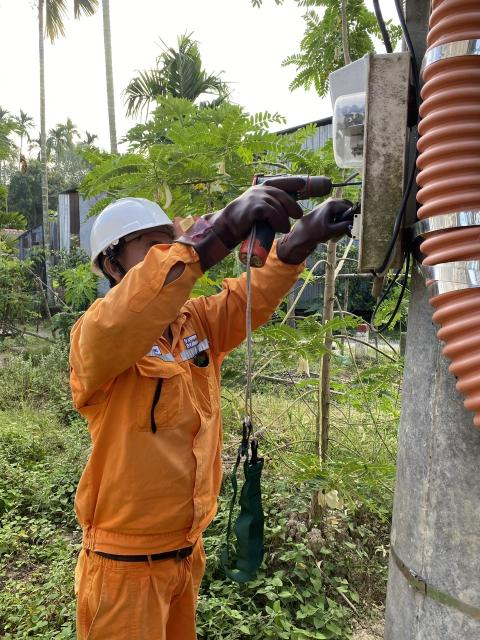gloves: (186, 180, 292, 244), (282, 187, 368, 264)
helmet: (64, 176, 173, 257)
